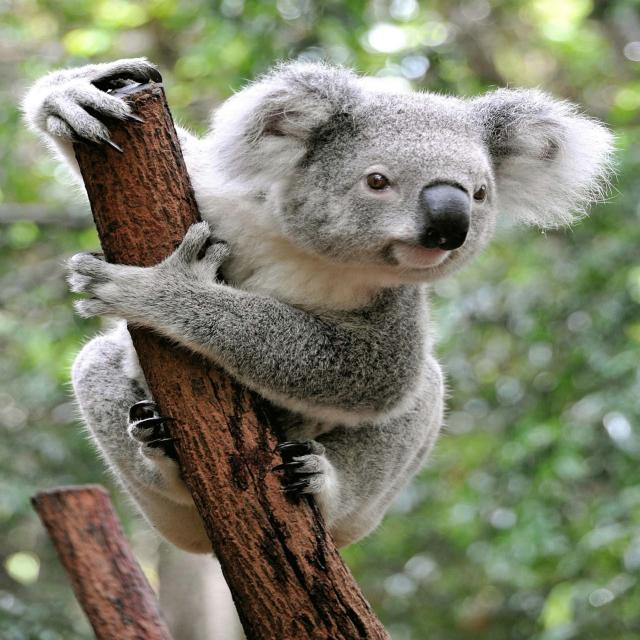koala: (69, 62, 614, 548), (73, 321, 245, 640), (23, 58, 162, 186)
